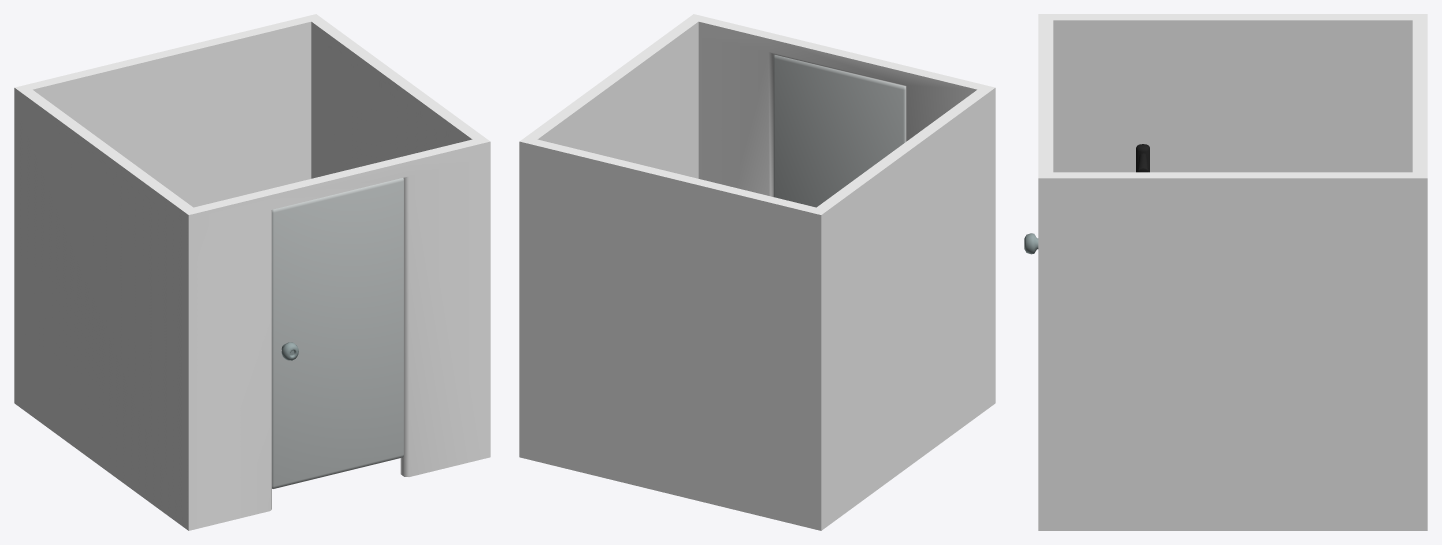
3 views of the same model, side by side, from view 1: azimuth 30°, elevation 25°; view 2: azimuth 150°, elevation 25°; view 3: azimuth 270°, elevation 25° (orthographic). The views are drawn at different scales.
Visible parts, largest first — view 1: Wc, Wc-Door; view 2: Wc, Wc-Door; view 3: Wc.
Boxes of the visible parts, x1,y1,x2,y2 form: Wc: [14, 14, 490, 530]; Wc-Door: [272, 178, 403, 488]; Wc: [519, 14, 995, 530]; Wc-Door: [773, 54, 905, 207]; Wc: [1038, 14, 1427, 530].
Size of the model in its own units: 2 by 2 by 2.07.
